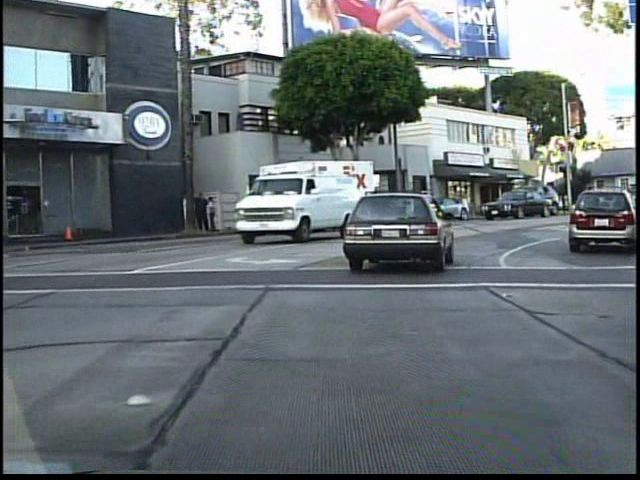person: (193, 190, 211, 234), (207, 194, 221, 232)
